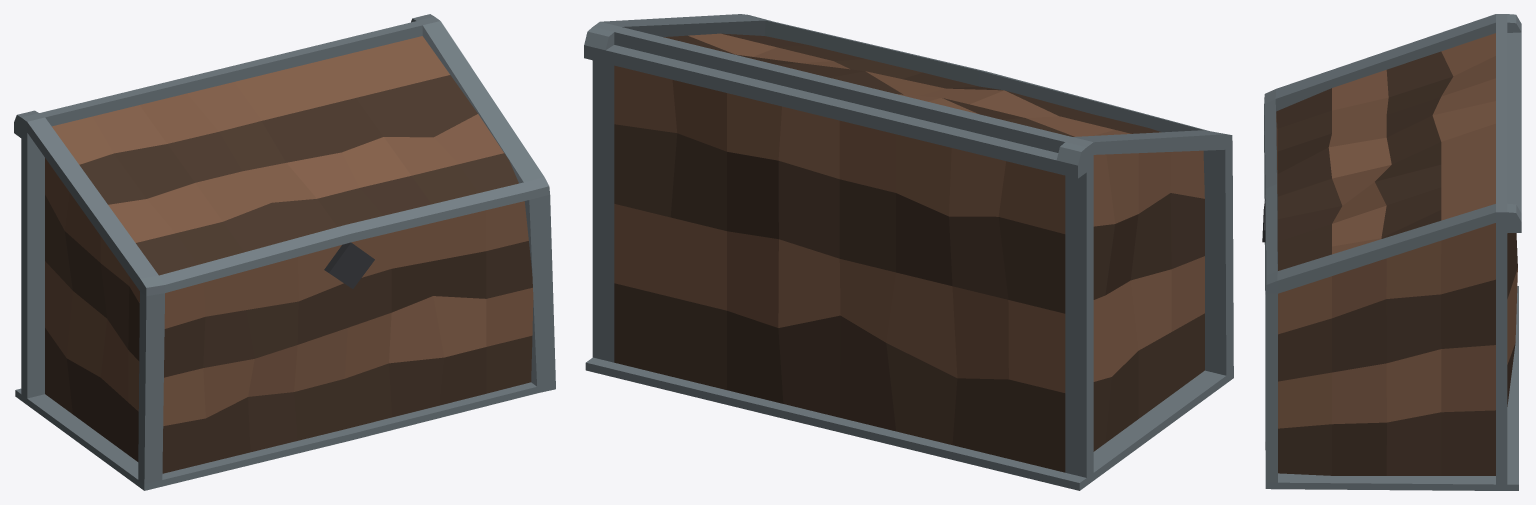
Rendered from Chest_02.gltf.
3 renders of one model, left to right at view 1: azimuth 30°, elevation 25°; view 2: azimuth 150°, elevation 25°; view 3: azimuth 270°, elevation 25°, orthographic. The views are drawn at different scales.
Parts seen in each view (by area): view 1: square chest; view 2: square chest; view 3: square chest.
Boxes of the visible parts, bbox=[...] form: square chest: bbox=[14, 14, 555, 490]; square chest: bbox=[584, 14, 1233, 490]; square chest: bbox=[1262, 14, 1521, 490].
Size of the model in its own units: 0.5503 by 0.3603 by 0.304.
Materials: 1 (1 with a texture image).
